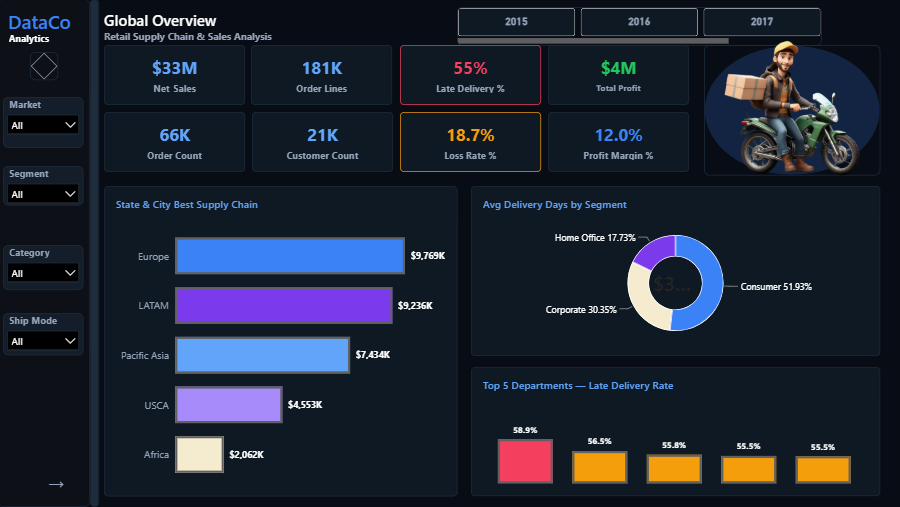

The dashboard page shown, as its layout file describes it:
{"tool":"powerbi","page":{"name":"Sales Overview","canvas":[1280,720],"ordinal":0},"visuals":[{"type":"shape","box":[1000,65,250,185],"z":0},{"type":"shape","box":[0,0,130,720],"z":1000},{"type":"shape","box":[130.5,0,12.5,720.4],"z":2000},{"type":"textbox","box":[14.3,14.3,116.2,48.3],"z":3000},{"type":"textbox","box":[15.7,45,99.9,21.4],"z":4000},{"type":"shape","box":[45,75,40,40],"z":5000},{"type":"slicer","fields":{"Values":["Supply Chain.Market"]},"box":[7.2,139.4,114.4,71.5],"z":6000},{"type":"slicer","fields":{"Values":["Supply Chain.Category"]},"box":[7.1,348.2,114.2,64.2],"z":7000},{"type":"slicer","fields":{"Values":["Supply Chain.Segment"]},"box":[7.1,236.9,114.2,55.7],"z":8000},{"type":"slicer","fields":{"Values":["Supply Chain.Ship Mode"]},"box":[7.1,445.2,114.2,59.9],"z":9000},{"type":"actionButton","box":[42.8,659.3,78.5,51.4],"z":10000},{"type":"textbox","box":[149.8,15.7,162.7,30],"z":11000},{"type":"textbox","box":[150.4,42.7,263.2,18.8],"z":12000},{"type":"advancedSlicerVisual","fields":{"Values":["DateTable.Year"]},"box":[650.7,10.7,516.6,55.4],"z":13000},{"type":"card","fields":{"Values":["Supply Chain.Net_Sales"]},"box":[150,65,200.2,85],"z":14000},{"type":"card","fields":{"Values":["Supply Chain.Order Lines"]},"box":[359,65,200,85],"z":15000},{"type":"card","fields":{"Values":["Supply Chain.Late Delivery %"]},"box":[570,65,200,85],"z":16000},{"type":"card","fields":{"Values":["Supply Chain.Total Profit"]},"box":[780,65,200,85],"z":17000},{"type":"card","fields":{"Values":["Supply Chain.Order Count"]},"box":[150.2,160,200.2,85],"z":18000},{"type":"card","fields":{"Values":["Supply Chain.Customer Count"]},"box":[360,160,200,85],"z":19000},{"type":"card","fields":{"Values":["Supply Chain.Loss Rate %"]},"box":[570,160,200,85],"z":20000},{"type":"card","fields":{"Values":["Supply Chain.Profit Margin %"]},"box":[780,160,200,85],"z":21000},{"type":"clusteredBarChart","title":"State & City Best Supply Chain","fields":{"Category":["Supply Chain.Market"],"Y":["Supply Chain.Net_Sales"]},"box":[150.2,264.6,500.6,439.8],"z":22000},{"type":"clusteredColumnChart","title":"Top 5 Departments — Late Delivery Rate","fields":{"Category":["Supply Chain.Department"],"Y":["Supply Chain.Late Delivery %"]},"box":[670.4,521.6,579.7,182.8],"z":23000},{"type":"donutChart","title":"Avg Delivery Days by Segment","fields":{"Category":["Supply Chain.Segment"],"Y":["Supply Chain.Net_Sales"]},"box":[670.4,265,579.7,240.9],"z":24000},{"type":"image","box":[990,55,270,200],"z":25000}]}

Visuals, with their boxes in screenshot pixels (x1, y1, x2, y2), scaled from the page's 1280x720 canvas onto the 900x507 screenshot:
shape: Rect(703, 46, 879, 176)
shape: Rect(0, 0, 91, 506)
shape: Rect(92, 0, 101, 506)
textbox: Rect(10, 10, 92, 44)
textbox: Rect(11, 32, 81, 47)
shape: Rect(32, 53, 60, 81)
slicer - Supply Chain.Market: Rect(5, 98, 86, 149)
slicer - Supply Chain.Category: Rect(5, 245, 85, 290)
slicer - Supply Chain.Segment: Rect(5, 167, 85, 206)
slicer - Supply Chain.Ship Mode: Rect(5, 313, 85, 356)
actionButton: Rect(30, 464, 85, 500)
textbox: Rect(105, 11, 220, 32)
textbox: Rect(106, 30, 291, 43)
advancedSlicerVisual - DateTable.Year: Rect(458, 8, 821, 47)
card - Supply Chain.Net_Sales: Rect(105, 46, 246, 106)
card - Supply Chain.Order Lines: Rect(252, 46, 393, 106)
card - Supply Chain.Late Delivery %: Rect(401, 46, 541, 106)
card - Supply Chain.Total Profit: Rect(548, 46, 689, 106)
card - Supply Chain.Order Count: Rect(106, 113, 246, 173)
card - Supply Chain.Customer Count: Rect(253, 113, 394, 173)
card - Supply Chain.Loss Rate %: Rect(401, 113, 541, 173)
card - Supply Chain.Profit Margin %: Rect(548, 113, 689, 173)
"State & City Best Supply Chain" clusteredBarChart: Rect(106, 186, 458, 496)
"Top 5 Departments — Late Delivery Rate" clusteredColumnChart: Rect(471, 367, 879, 496)
"Avg Delivery Days by Segment" donutChart: Rect(471, 187, 879, 356)
image: Rect(696, 39, 886, 180)
